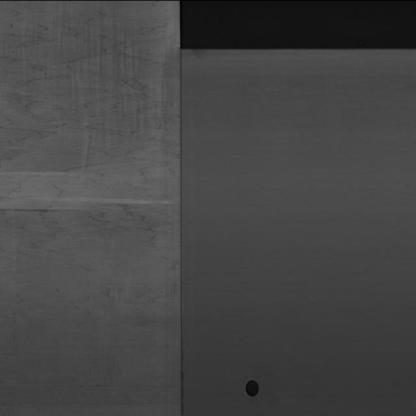punching_hole: (242, 377, 264, 400)
silk_spot: (3, 1, 173, 307)
welding_line: (168, 41, 192, 416)
